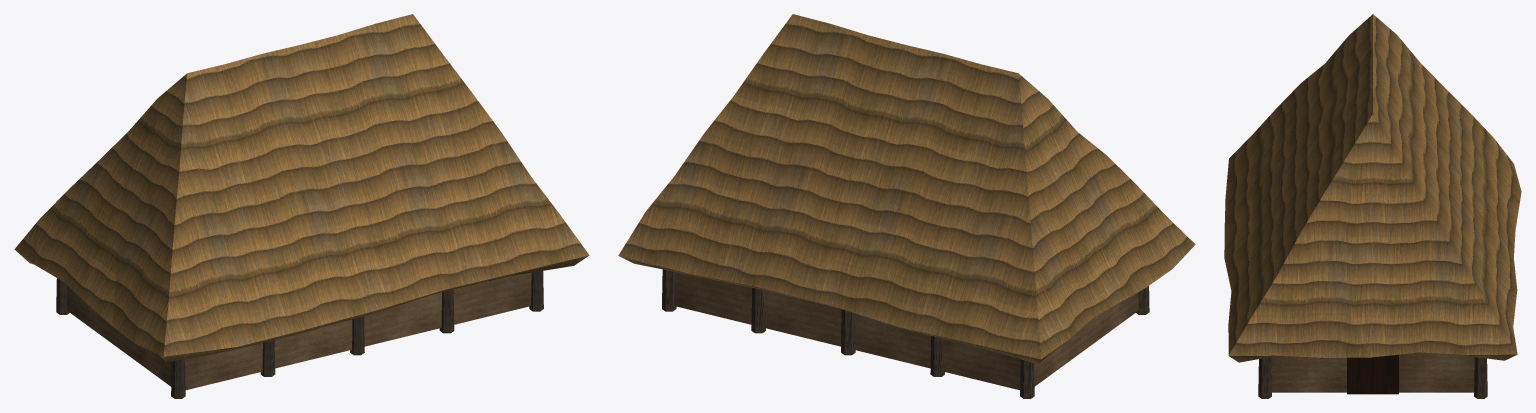
The model's file is casa_lunga_piccola.glb.
3 renders of one model, left to right at view 1: azimuth 30°, elevation 25°; view 2: azimuth 150°, elevation 25°; view 3: azimuth 270°, elevation 25°, orthographic. The views are drawn at different scales.
Visible parts, largest first — view 1: casa_lunga_piccola; view 2: casa_lunga_piccola; view 3: casa_lunga_piccola.
Part boxes in pixels (box(x1,y1,x2,y2)): casa_lunga_piccola: box(14, 14, 589, 398); casa_lunga_piccola: box(618, 14, 1195, 398); casa_lunga_piccola: box(1224, 14, 1521, 398).
Size of the model in its own units: 10.84 by 6.46 by 6.89.
4 materials, 4 textured.
